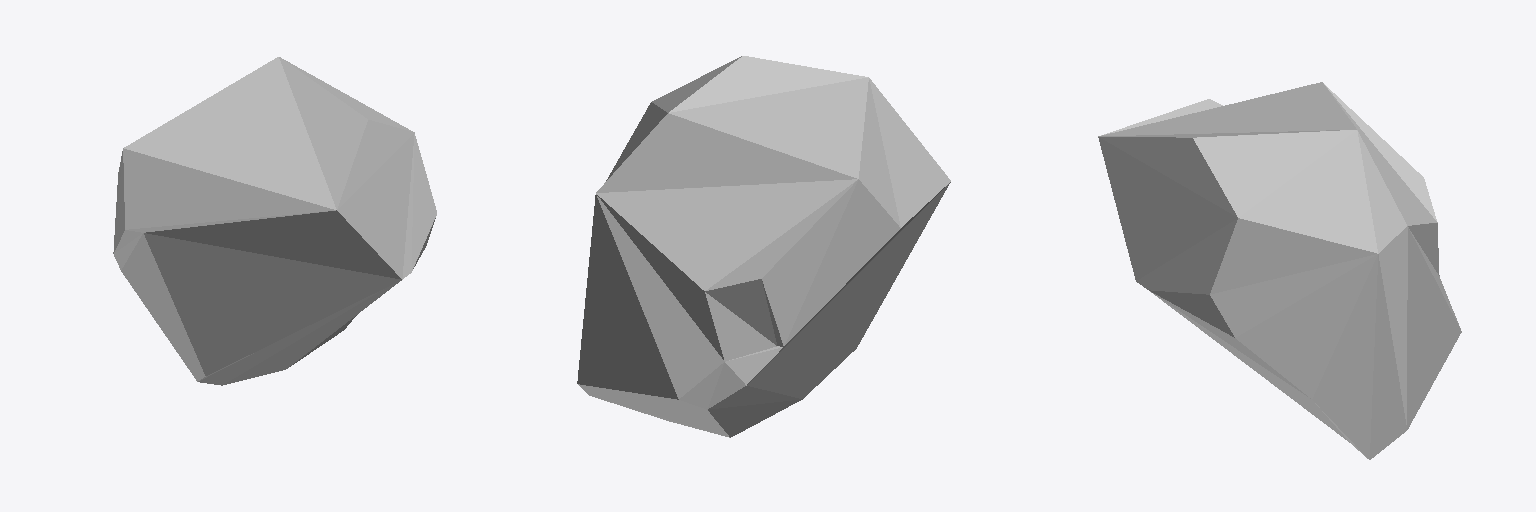
Rendered from Stone_1.obj.
3 renders of one model, left to right at view 1: azimuth 30°, elevation 25°; view 2: azimuth 150°, elevation 25°; view 3: azimuth 270°, elevation 25°, orthographic.
Parts seen in each view (by area): view 1: Cube.001; view 2: Cube.001; view 3: Cube.001.
Part boxes in pixels (x1,y1,x2,y2): Cube.001: (113,57,436,385); Cube.001: (577,56,950,437); Cube.001: (1098,82,1461,459).
Size of the model in its own units: 0.3517 by 0.355 by 0.3745.